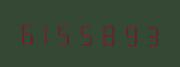eight: (97, 20, 116, 47)
five: (77, 19, 96, 47), (57, 19, 76, 46)
nine: (117, 20, 136, 47)
one: (37, 19, 56, 46)
six: (17, 18, 36, 46)
three: (137, 20, 156, 48)
